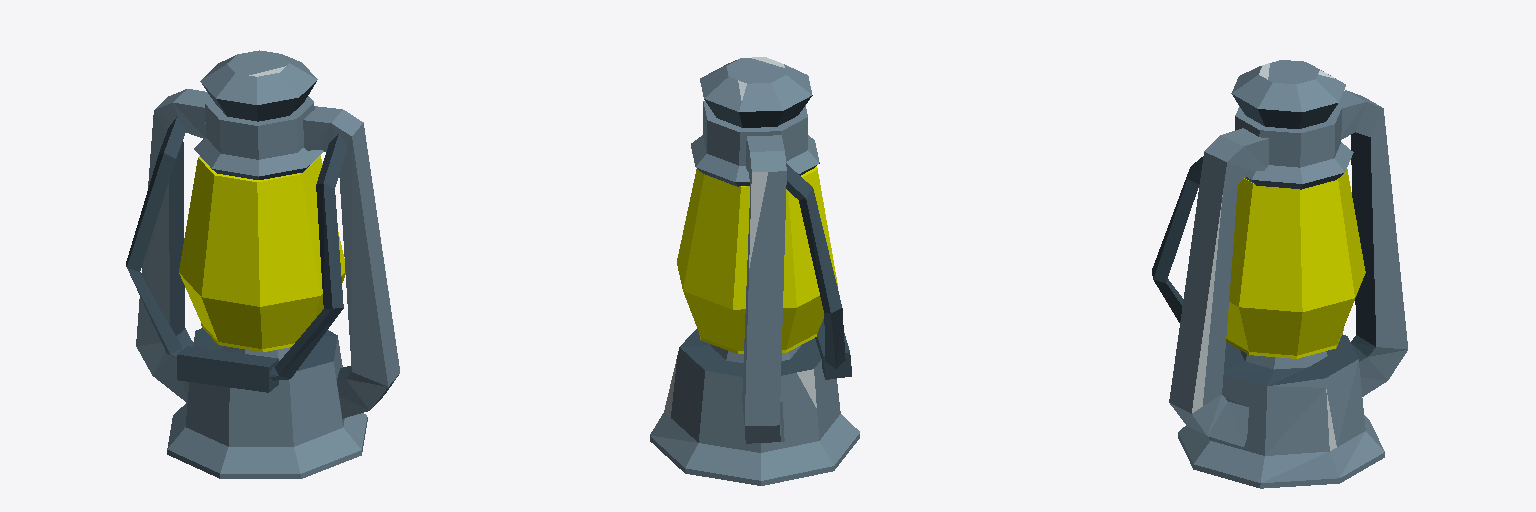
The picture shows the model from 3 angles: view 1: azimuth 30°, elevation 25°; view 2: azimuth 150°, elevation 25°; view 3: azimuth 270°, elevation 25°; orthographic projection.
Parts seen in each view (by area): view 1: Lantern; view 2: Lantern; view 3: Lantern.
Part boxes in pixels (left/top/right/bottom): Lantern: left=126, top=50, right=399, bottom=478; Lantern: left=650, top=57, right=859, bottom=485; Lantern: left=1152, top=60, right=1407, bottom=488.
Bounding box in the file's own units: 0.2724 × 0.4809 × 0.2974.
5 materials, 4 textured.